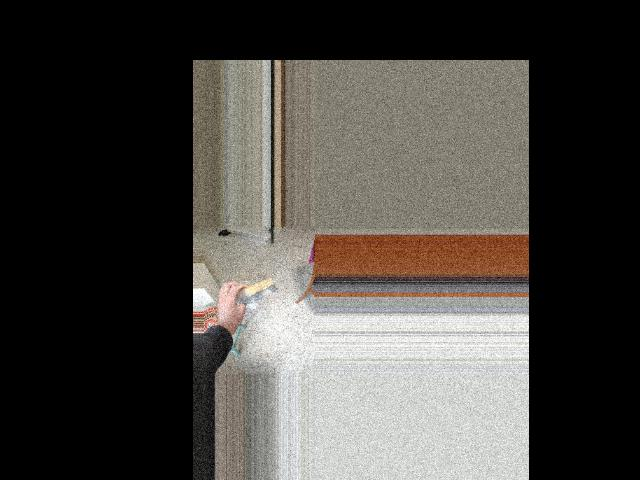cheese: (226, 273, 280, 309)
